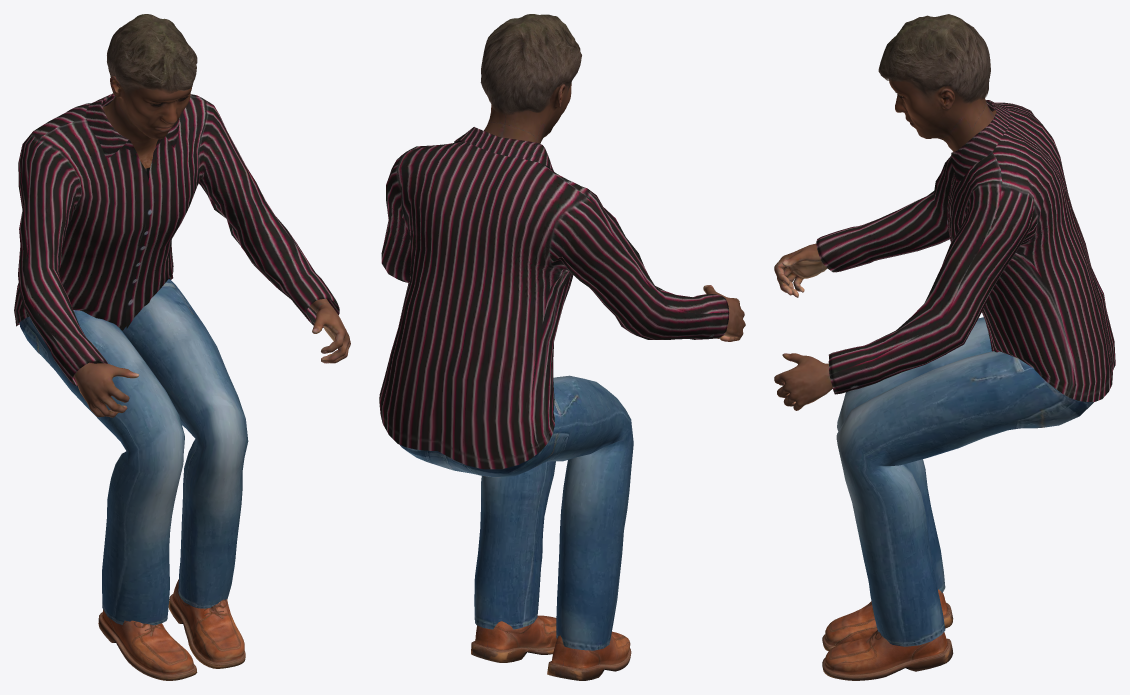
File: uomo-02.glb
3 renders of one model, left to right at view 1: azimuth 30°, elevation 25°; view 2: azimuth 150°, elevation 25°; view 3: azimuth 270°, elevation 25°, orthographic. The views are drawn at different scales.
Parts seen in each view (by area): view 1: Human.male_casualsuit03, Human, Human.shoes01, Human.short02; view 2: Human.male_casualsuit03, Human.short02, Human.shoes01, Human; view 3: Human.male_casualsuit03, Human, Human.short02, Human.shoes01.
Part boxes in pixels (x1=…): Human.male_casualsuit03: x1=14, y1=93, x2=339, y2=625; Human: x1=73, y1=75, x2=350, y2=417; Human.shoes01: x1=98, y1=579, x2=245, y2=680; Human.short02: x1=107, y1=14, x2=197, y2=96; Human.male_casualsuit03: x1=379, y1=127, x2=729, y2=650; Human.short02: x1=480, y1=14, x2=581, y2=115; Human.shoes01: x1=471, y1=615, x2=631, y2=680; Human: x1=484, y1=83, x2=745, y2=341; Human.male_casualsuit03: x1=816, y1=100, x2=1115, y2=646; Human: x1=774, y1=79, x2=996, y2=410; Human.short02: x1=878, y1=14, x2=990, y2=103; Human.shoes01: x1=822, y1=589, x2=953, y2=680.
Bounding box in the file's own units: 0.6902 × 1.49 × 0.7238.
12 materials, 12 textured.
